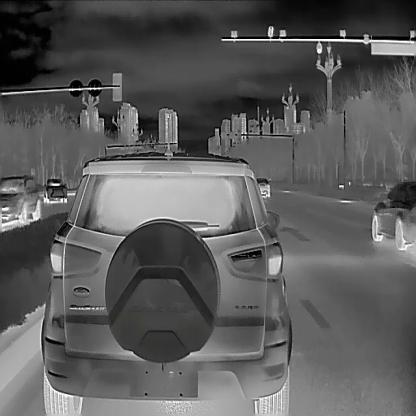car: (41, 151, 292, 416), (370, 179, 415, 250), (0, 174, 39, 227), (42, 175, 68, 204), (254, 177, 270, 198)
